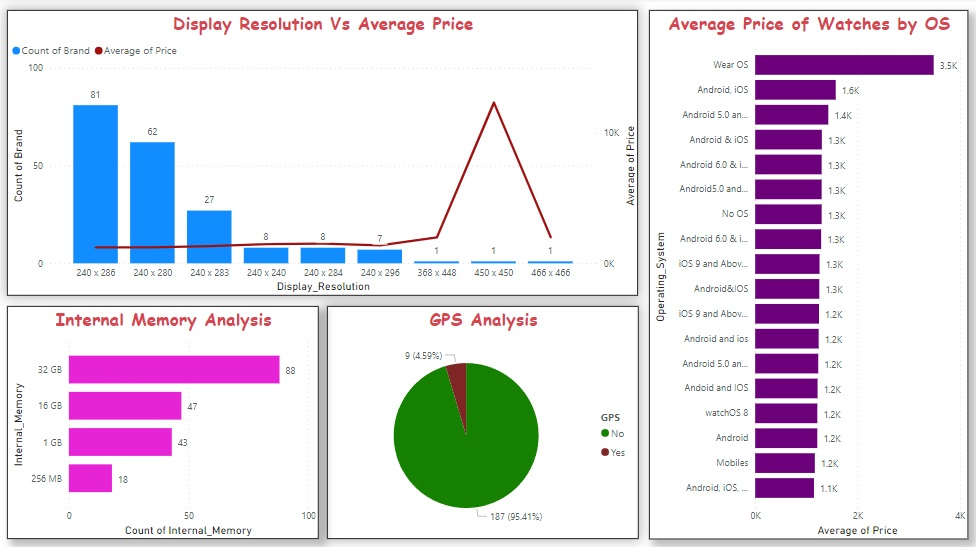

Layout of this report page (visuals, bound fields, positions):
{"tool":"powerbi","page":{"name":"Page 3","canvas":[1280,720],"ordinal":2},"visuals":[{"type":"pieChart","title":"GPS Analysis","fields":{"Category":["Smart_watches.GPS"],"Y":["CountNonNull(Smart_watches.Name)"]},"box":[429,402.8,408.3,305.2],"z":0},{"type":"lineStackedColumnComboChart","title":"Display Resolution Vs Average Price","fields":{"Category":["Smart_watches.Display_Resolution"],"Y":["CountNonNull(Smart_watches.Brand)"],"Y2":["Avg(Smart_watches.Price)"]},"box":[11,15.1,826.3,374],"z":1000},{"type":"barChart","title":"Average Price of Watches by OS","fields":{"Category":["Smart_watches.Operating_System"],"Y":["Avg(Smart_watches.Price)"]},"box":[851,15.1,418,692.9],"z":2000},{"type":"barChart","title":"Internal Memory Analysis","fields":{"Category":["Smart_watches.Internal_Memory"],"Y":["CountNonNull(Smart_watches.Internal_Memory)"]},"box":[11,402.8,408.3,305.2],"z":3000}]}

Visuals, with their boxes in screenshot pixels (x1, y1, x2, y2), scaled from the page's 1280x720 canvas onto the 976x547 screenshot:
"GPS Analysis" pieChart: x1=327 y1=306 x2=638 y2=538
"Display Resolution Vs Average Price" lineStackedColumnComboChart: x1=8 y1=11 x2=638 y2=296
"Average Price of Watches by OS" barChart: x1=649 y1=11 x2=968 y2=538
"Internal Memory Analysis" barChart: x1=8 y1=306 x2=320 y2=538
